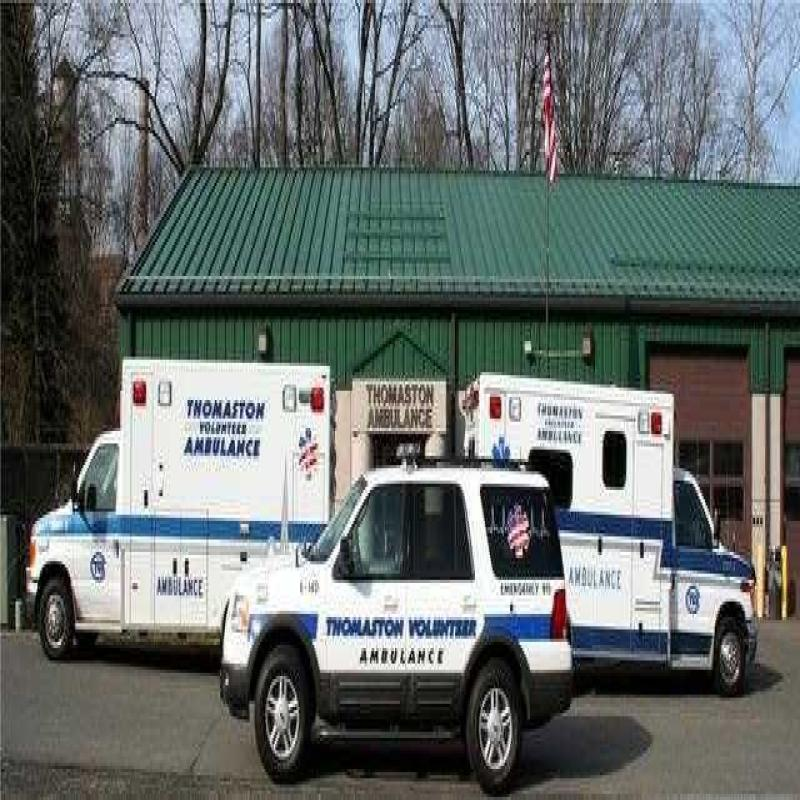AmbulanceSiren: (280, 368, 326, 422), (629, 409, 676, 444)
